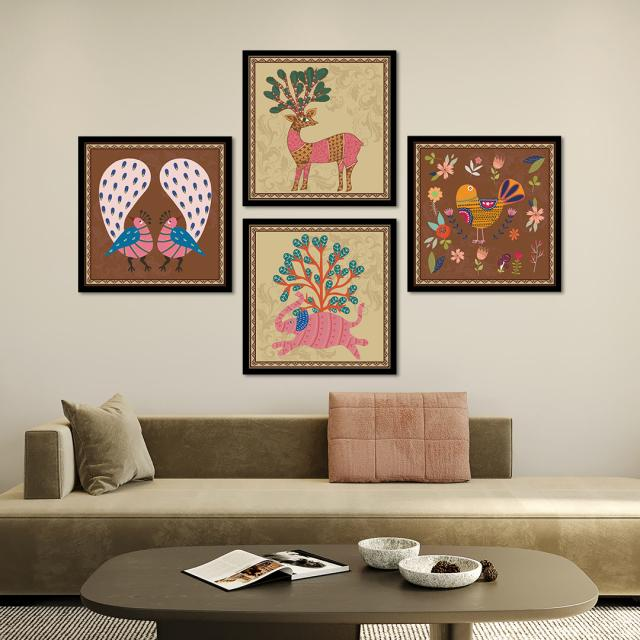painting: (407, 134, 559, 290), (79, 138, 231, 293), (244, 49, 395, 205), (244, 219, 395, 375)
